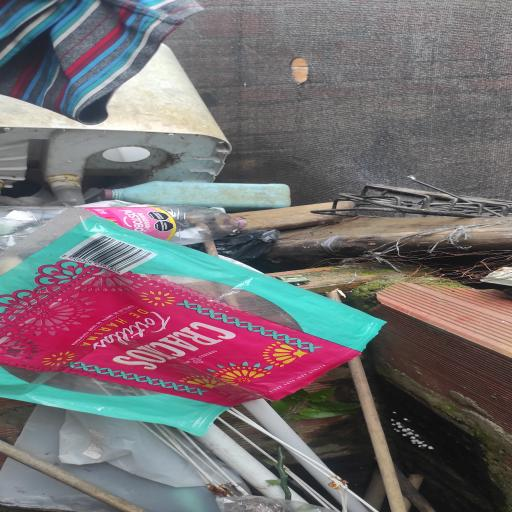Carrito: (274, 275, 310, 286)
